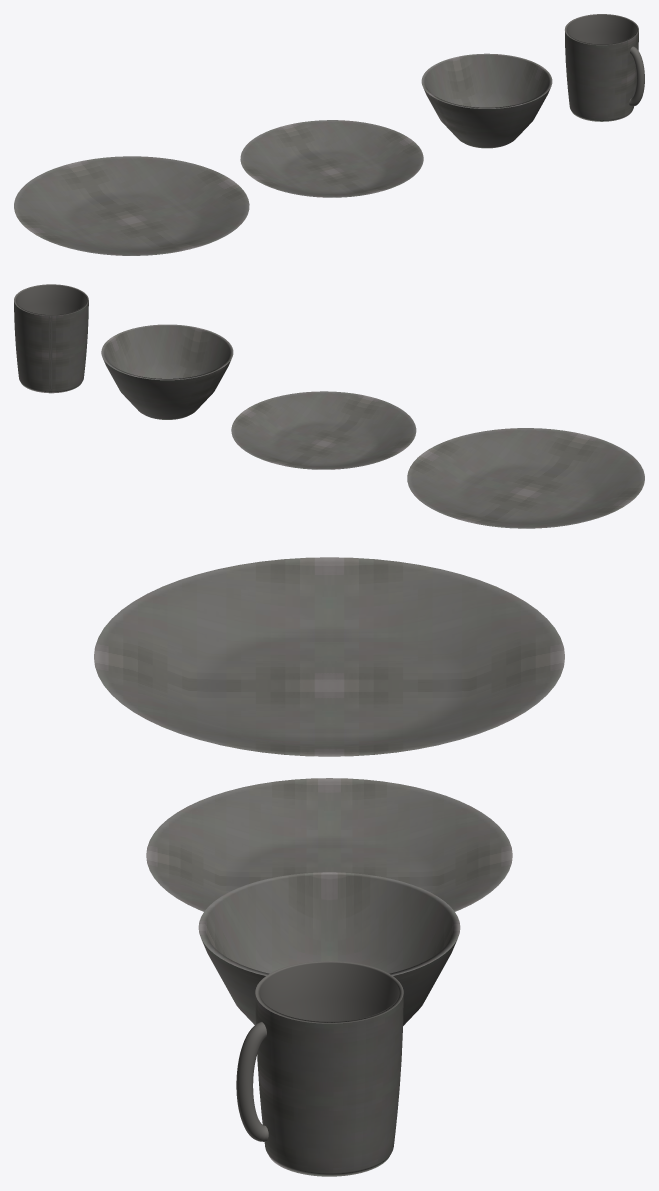
3 views of the same model, one above another, from view 1: azimuth 30°, elevation 25°; view 2: azimuth 150°, elevation 25°; view 3: azimuth 270°, elevation 25° (orthographic). The views are drawn at different scales.
Size of the model in its own units: 0.7995 by 0.1 by 0.27.
9 materials, 7 textured.
